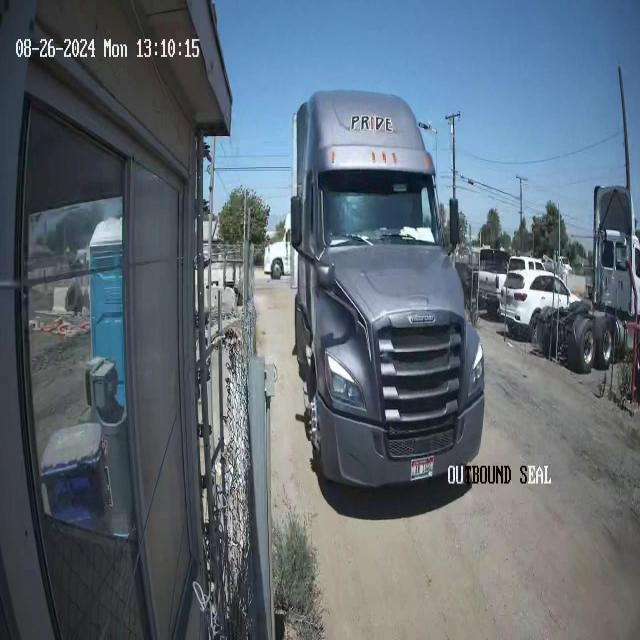TRUCK_IN: (289, 87, 486, 493)
